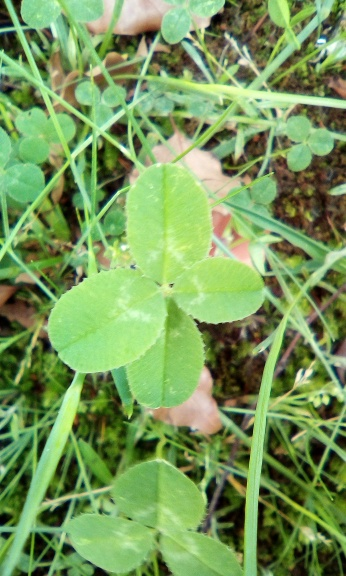4leaf: (46, 161, 265, 411)
